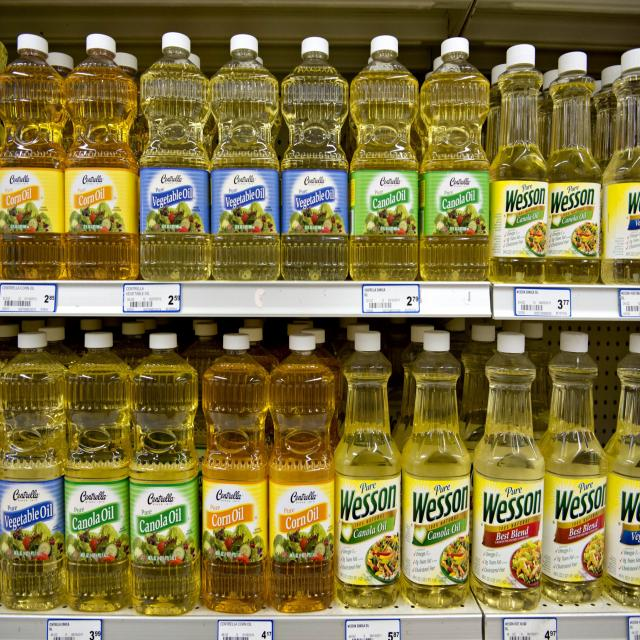oil: (389, 324, 640, 614), (0, 337, 203, 618), (187, 342, 345, 617), (62, 36, 140, 278), (0, 432, 58, 610), (348, 35, 418, 177), (421, 37, 492, 175), (137, 33, 207, 171), (211, 37, 278, 170), (284, 37, 348, 172)
